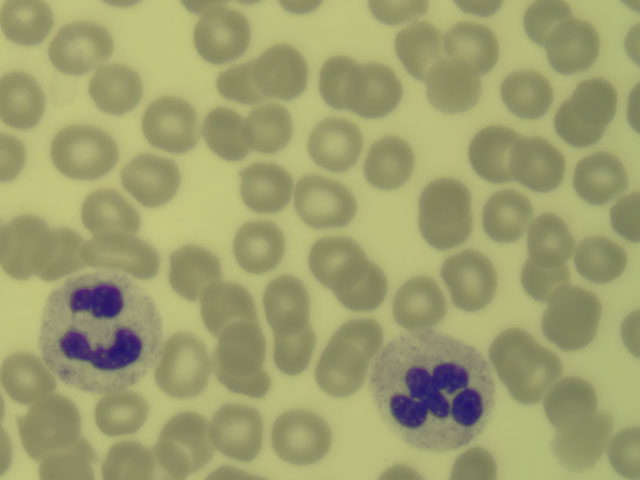RBC: (495, 326, 554, 397), (273, 407, 335, 462), (422, 183, 476, 245), (440, 253, 503, 306), (17, 397, 84, 446), (543, 291, 602, 346), (90, 232, 161, 276), (17, 442, 98, 480), (258, 45, 311, 102), (305, 116, 364, 167), (570, 152, 633, 199), (56, 126, 113, 175), (145, 99, 198, 151), (297, 176, 352, 226), (126, 153, 182, 202), (162, 413, 211, 468), (427, 64, 482, 113), (192, 14, 251, 59), (501, 70, 551, 123), (392, 276, 444, 326), (216, 405, 262, 461), (1, 216, 44, 275), (469, 129, 517, 180), (540, 378, 601, 418), (167, 341, 213, 394), (241, 167, 294, 213), (1, 72, 46, 126), (390, 26, 442, 72), (233, 223, 286, 268), (575, 237, 630, 280), (52, 22, 108, 64), (357, 66, 403, 117), (86, 67, 140, 110), (306, 239, 362, 280), (482, 190, 530, 237), (169, 246, 218, 292), (553, 420, 603, 465), (517, 138, 560, 189), (203, 107, 244, 160), (217, 324, 264, 370), (1, 2, 50, 46), (199, 285, 254, 324), (446, 445, 506, 480), (265, 278, 309, 325), (316, 348, 363, 392), (449, 21, 493, 68), (370, 136, 413, 184), (339, 265, 387, 308), (531, 213, 573, 262), (550, 24, 594, 70), (554, 99, 600, 143), (82, 189, 135, 227), (1, 353, 45, 397), (248, 106, 289, 150), (97, 393, 143, 432), (103, 443, 150, 480), (343, 316, 384, 357), (322, 54, 356, 103), (278, 326, 313, 372), (577, 79, 619, 117), (367, 1, 438, 23), (215, 62, 255, 100), (525, 258, 571, 291), (612, 426, 640, 480), (227, 364, 270, 398), (611, 193, 640, 243), (46, 236, 86, 272), (525, 1, 568, 34), (153, 439, 184, 480), (455, 1, 513, 20), (1, 134, 24, 180), (622, 310, 640, 359), (184, 1, 232, 18), (622, 22, 640, 64), (626, 81, 640, 133), (378, 464, 423, 478), (281, 1, 322, 16)
WBC: (43, 279, 163, 383), (378, 341, 497, 437)
